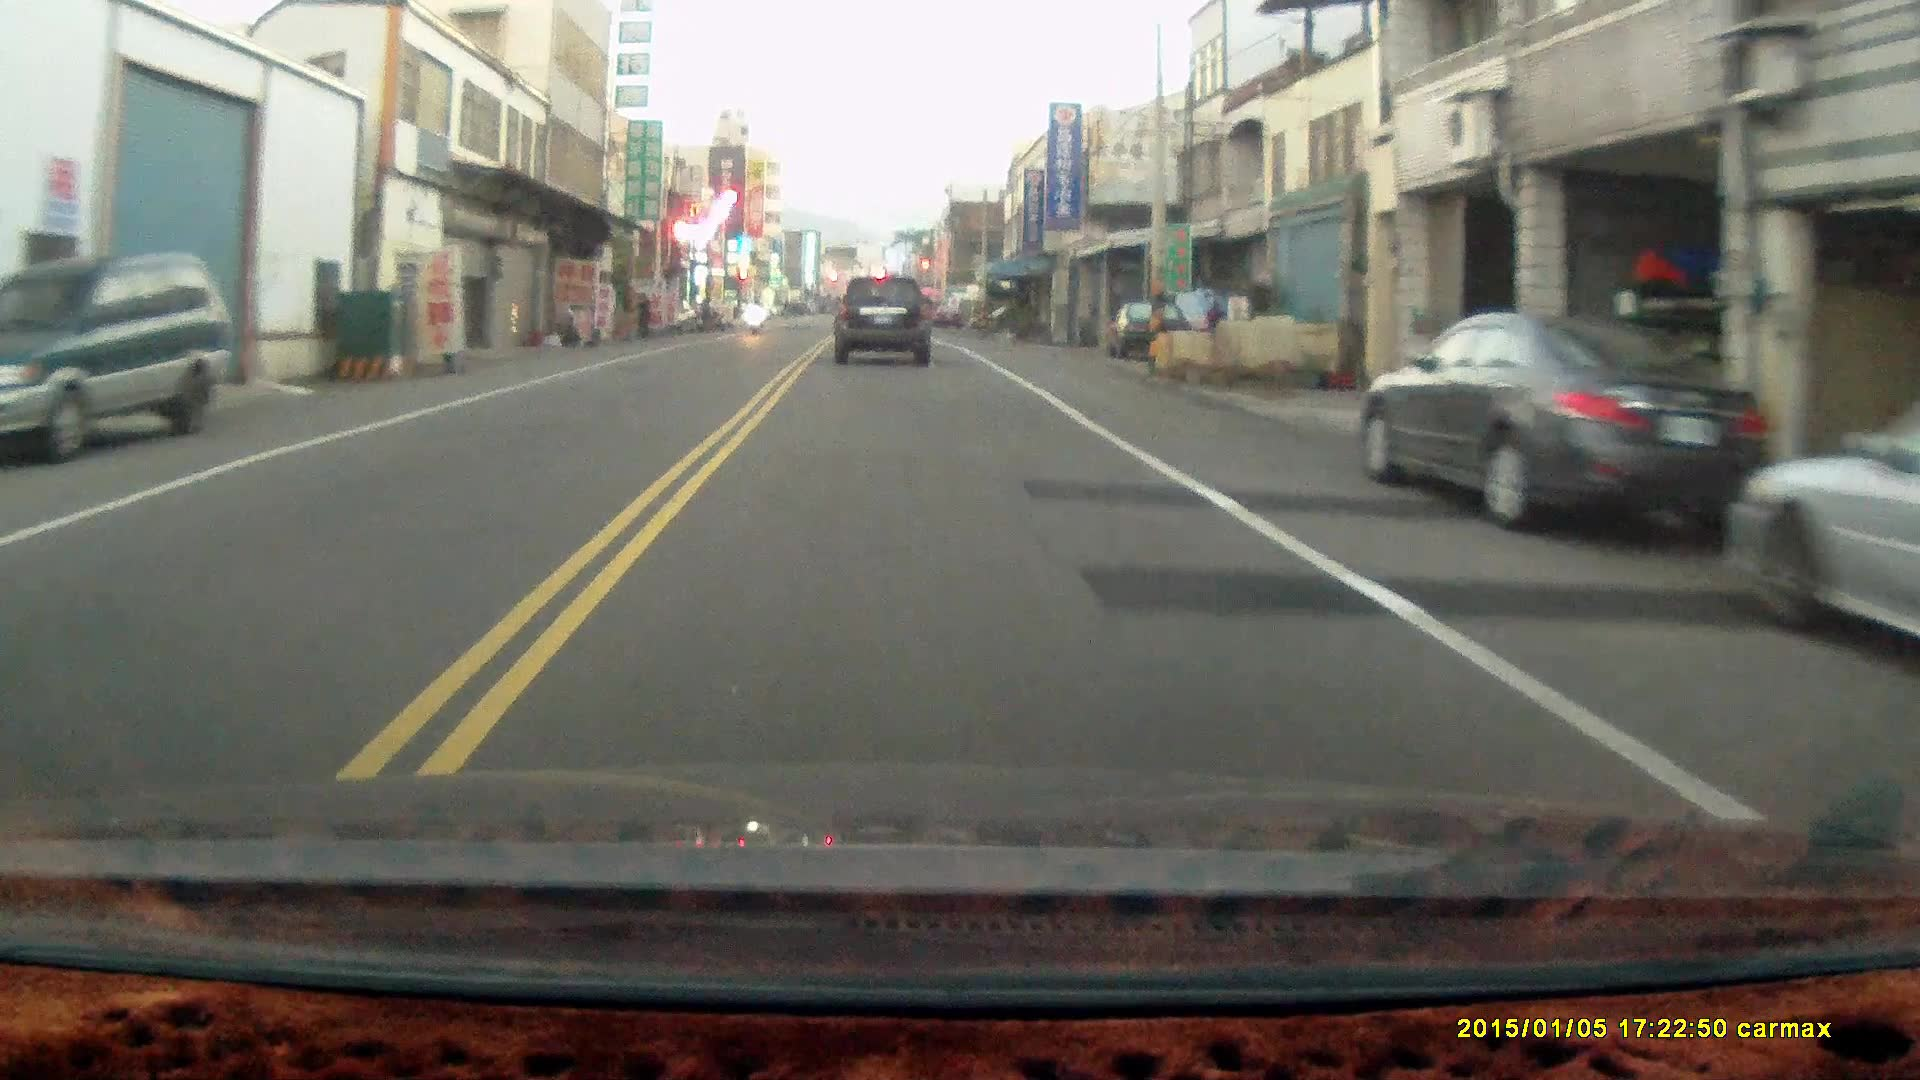pedestrian: (633, 289, 653, 338)
vehicle: (1359, 311, 1779, 545), (1722, 392, 1920, 685), (1, 250, 233, 458), (833, 273, 934, 367), (1106, 301, 1193, 360)
